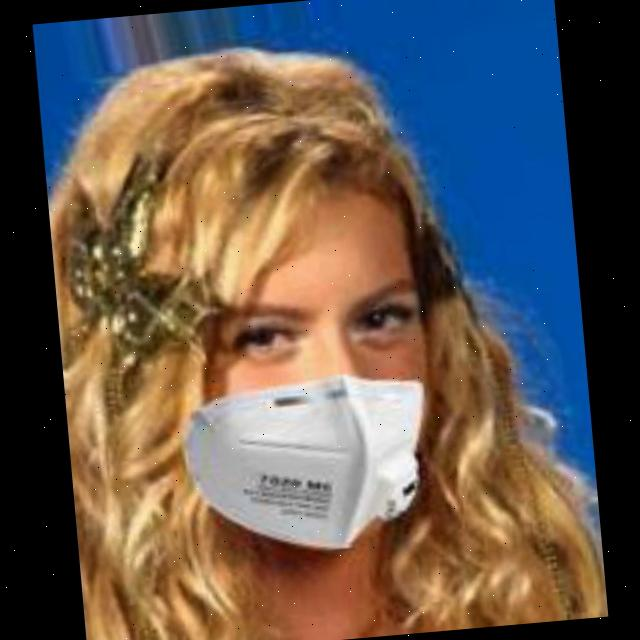suspicion: (138, 146, 486, 584)
